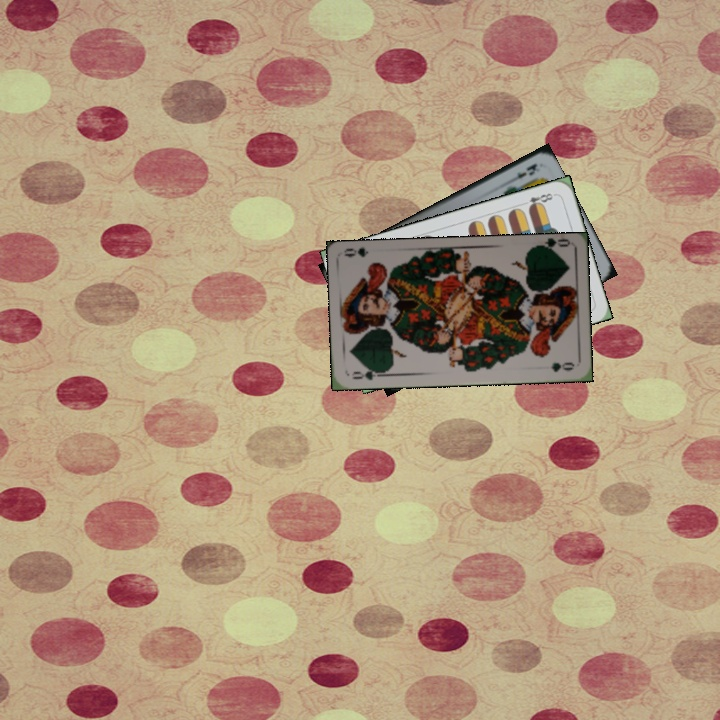E8: (518, 189, 558, 212)
EK: (504, 159, 543, 186)
GO: (531, 236, 571, 256), (348, 364, 387, 383)
